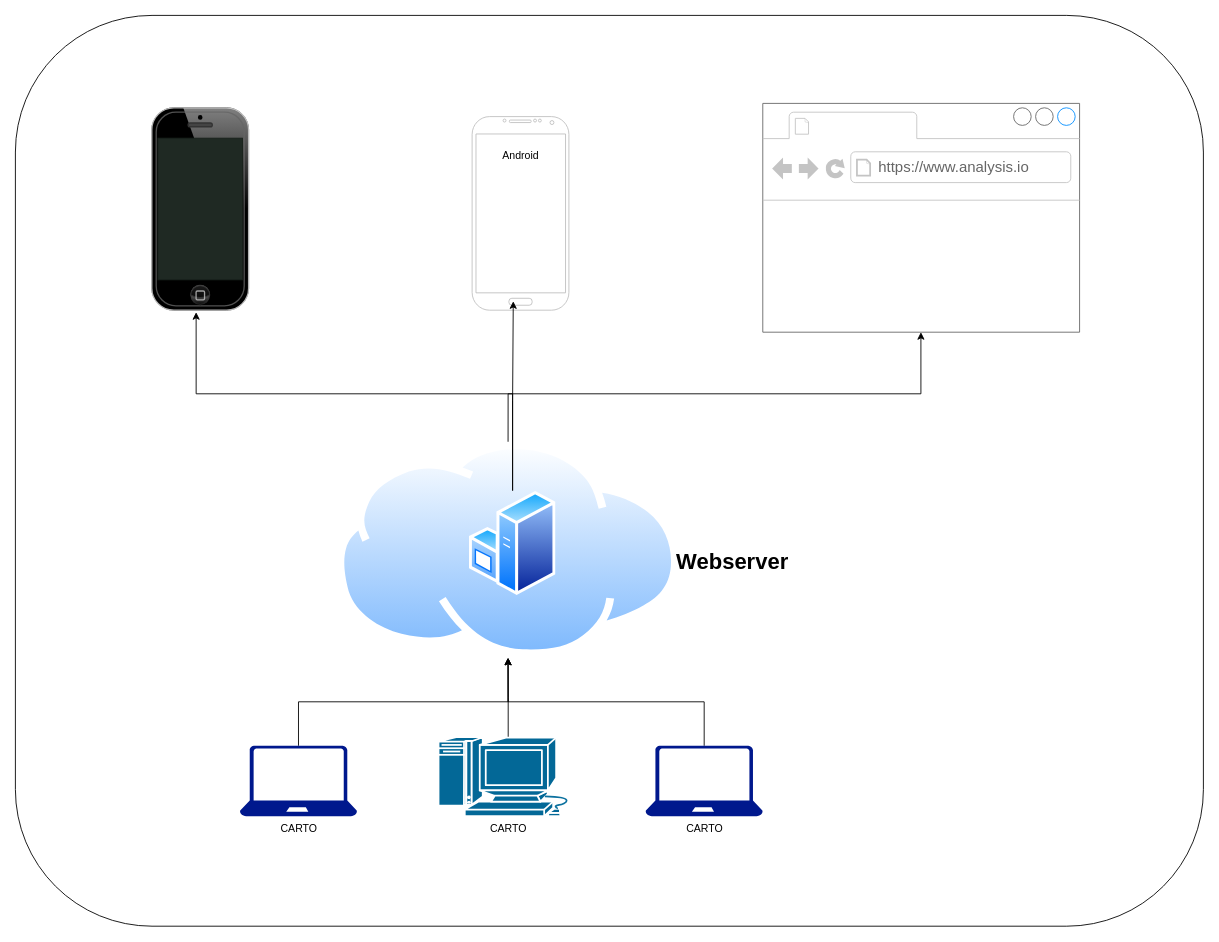
Some shapes in this 1219 by 942 pixel diagram are drawn without their labels. The shapes that lost their labels are listed below. From the top down, each one's centre as x and y in pixels, then its label:
(x=863, y=125): Renishaw
(x=200, y=208): iPhone
